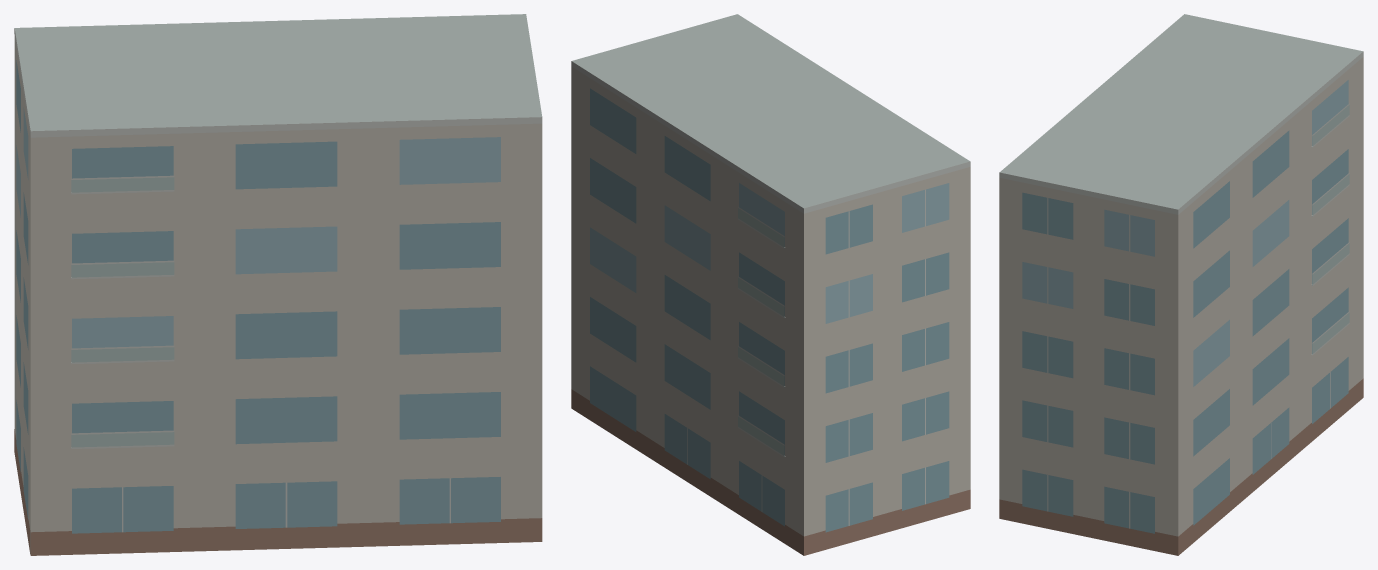
Rendered from survey-upis-32525597.glb.
The picture shows the model from 3 angles, left to right: view 1: azimuth 30°, elevation 25°; view 2: azimuth 150°, elevation 25°; view 3: azimuth 270°, elevation 25°; orthographic projection. The views are drawn at different scales.
Visible parts, largest first — view 1: survey-upis-32525597.tmp; view 2: survey-upis-32525597.tmp; view 3: survey-upis-32525597.tmp.
Boxes of the visible parts, x1,y1,x2,y2 form: survey-upis-32525597.tmp: (14, 14, 542, 555); survey-upis-32525597.tmp: (571, 14, 970, 555); survey-upis-32525597.tmp: (999, 14, 1363, 555).
Size of the model in its own units: 19.46 by 16.05 by 15.31.
